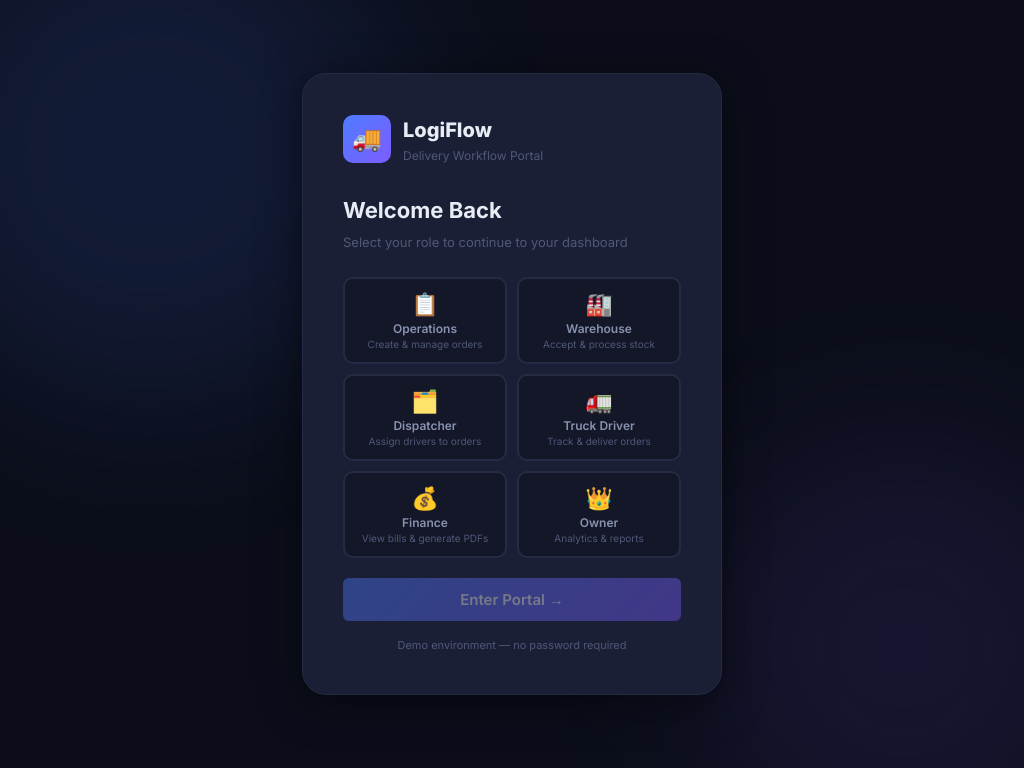
Test: Login Page › "Enter Portal" button enables after selecting a role
This screenshot has width=1024, height=768.
Click the button "📋 Operations Create & manage orders".
click(425, 320)  # box [343, 277, 507, 364]
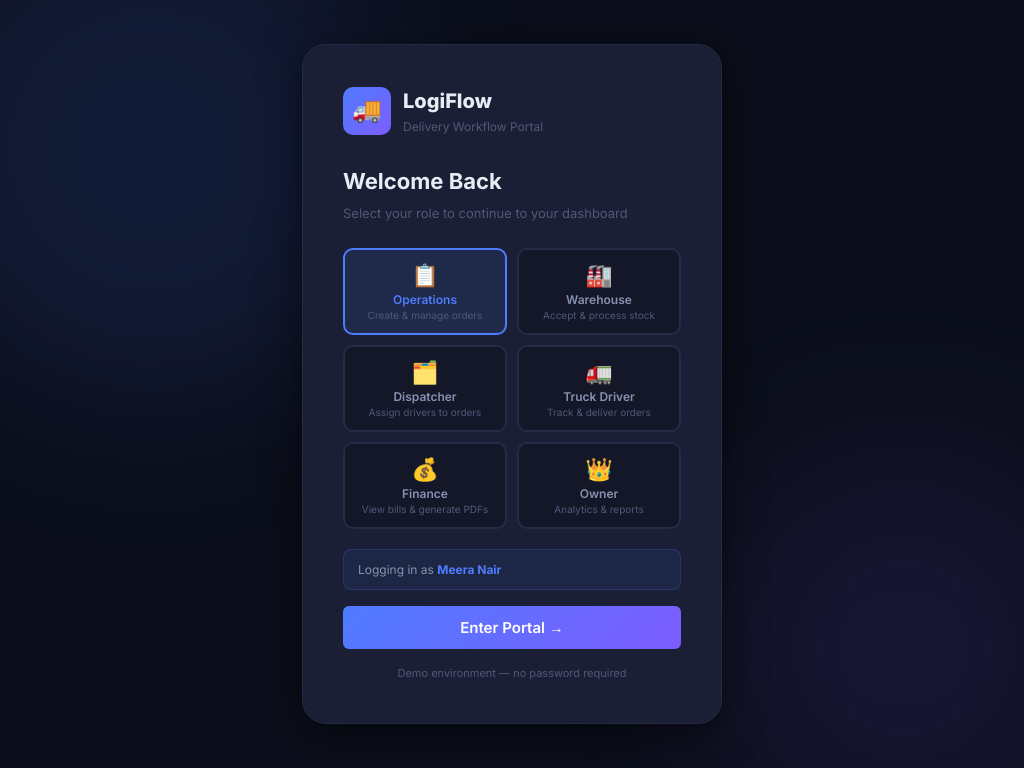
Expected: the button "Enter Portal →" is enabled, [343, 606, 681, 649]
